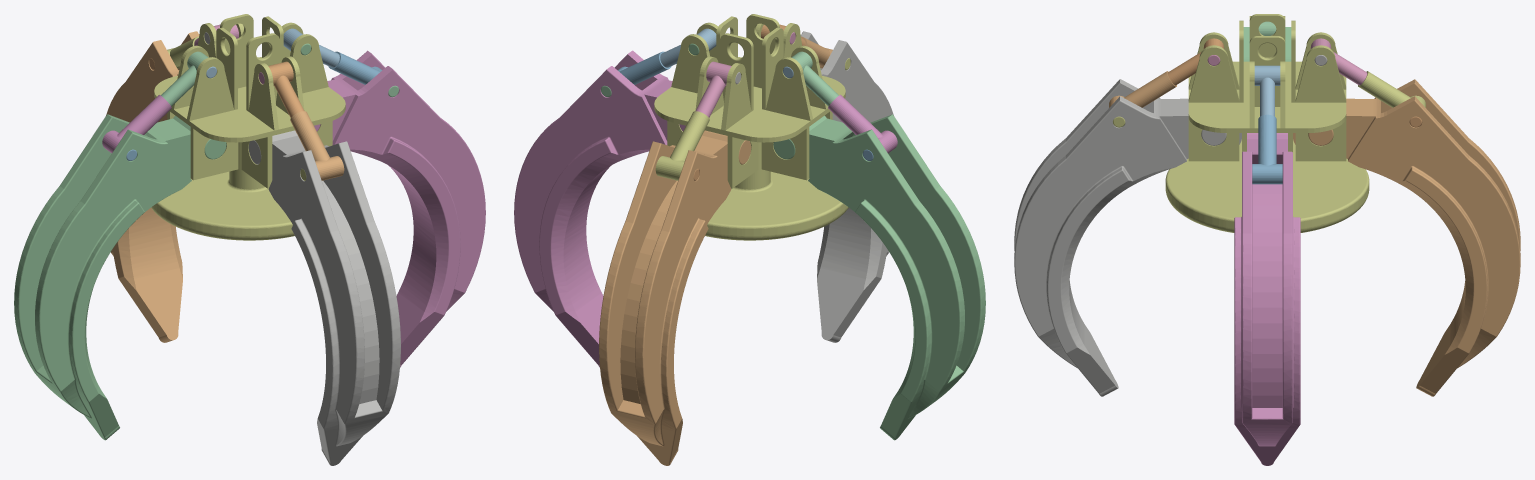
File: case-03_astra6.glb
3 renders of one model, left to right at view 1: azimuth 30°, elevation 25°; view 2: azimuth 150°, elevation 25°; view 3: azimuth 270°, elevation 25°, orthographic.
Visible parts, largest first — view 1: c00004, c00001, c00005, c00002, c00003, c00013, c00012, c00009, c00008, c00010, c00006; view 2: c00004, c00001, c00003, c00002, c00005, c00011, c00012, c00007, c00008, c00010, c00006; view 3: c00001, c00005, c00003, c00002, c00010, c00006, c00013, c00011, c00007, c00009.
Boxes of the visible parts, x1,y1,x2,y2 form: c00004: [14, 114, 191, 440]; c00001: [151, 14, 345, 240]; c00005: [268, 130, 400, 465]; c00002: [327, 50, 485, 367]; c00003: [106, 31, 199, 342]; c00013: [290, 111, 344, 180]; c00012: [102, 95, 171, 153]; c00009: [268, 61, 304, 117]; c00008: [161, 51, 208, 106]; c00010: [328, 51, 382, 84]; c00006: [283, 28, 339, 67]; c00004: [808, 114, 985, 440]; c00001: [654, 14, 848, 240]; c00003: [599, 130, 731, 465]; c00002: [514, 50, 672, 367]; c00005: [800, 31, 893, 342]; c00011: [655, 111, 709, 180]; c00012: [828, 94, 897, 153]; c00007: [695, 61, 731, 117]; c00008: [791, 51, 838, 106]; c00010: [617, 51, 671, 84]; c00006: [660, 28, 716, 67]; c00001: [1165, 14, 1369, 232]; c00005: [1014, 79, 1241, 396]; c00003: [1293, 79, 1520, 396]; c00002: [1234, 133, 1300, 465]; c00010: [1252, 114, 1282, 184]; c00006: [1254, 65, 1280, 116]; c00013: [1109, 71, 1176, 107]; c00011: [1358, 71, 1425, 107]; c00007: [1310, 38, 1367, 85]; c00009: [1167, 38, 1224, 85].
Bounding box in the file's own units: 1987 × 1604 × 1987.
